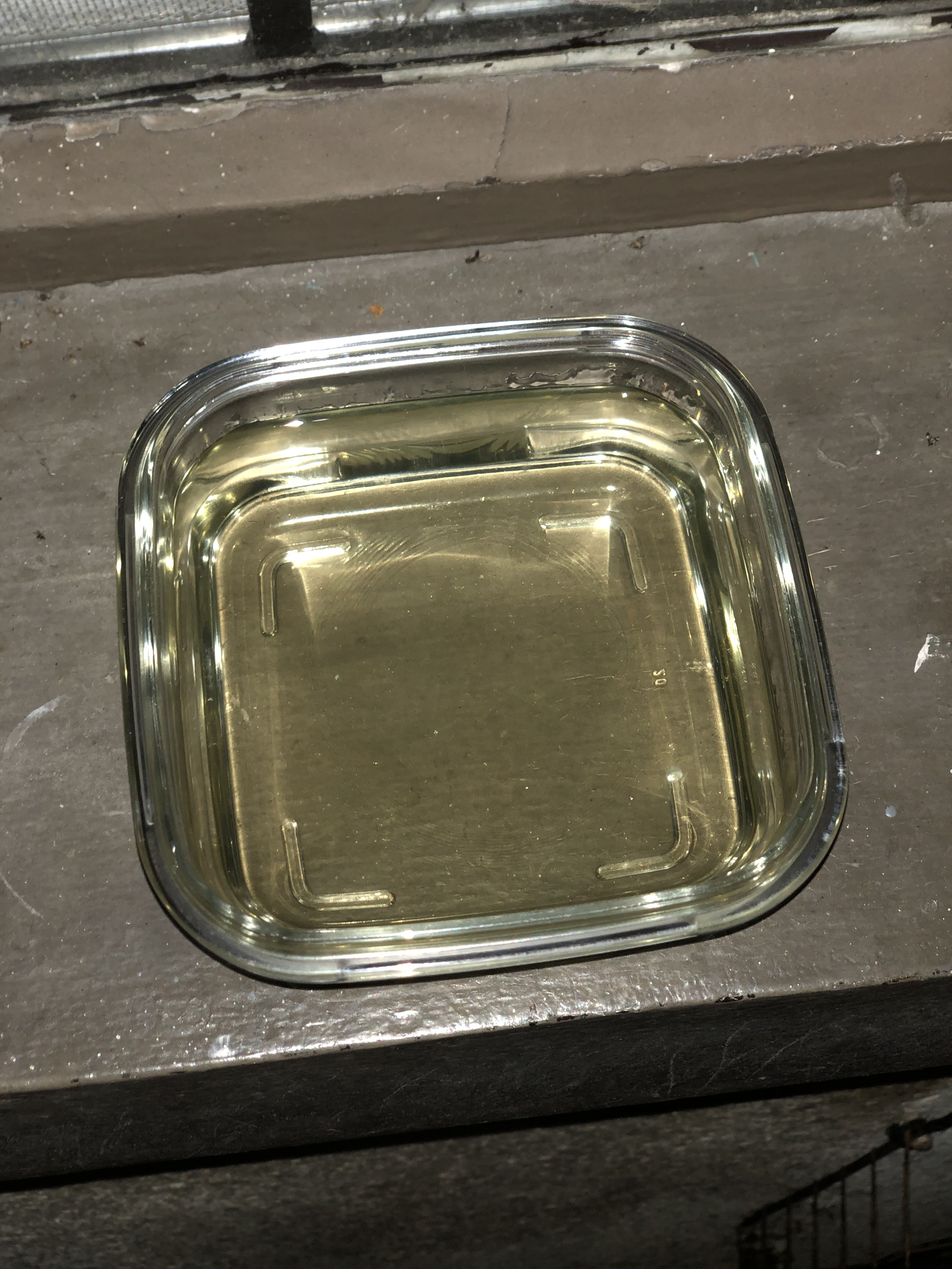reusable: (170, 393, 784, 925)
